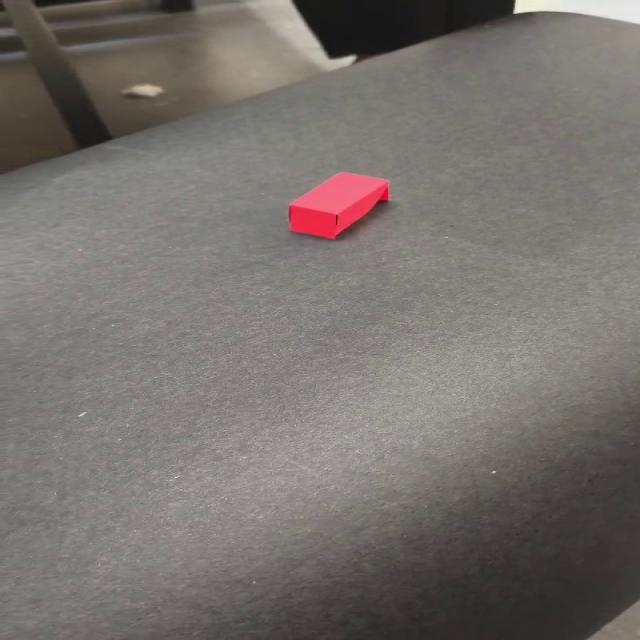red block: (287, 170, 389, 240)
